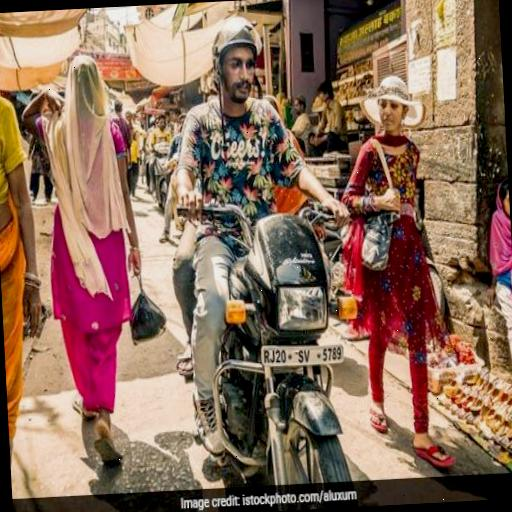helmet: (159, 5, 365, 498)
